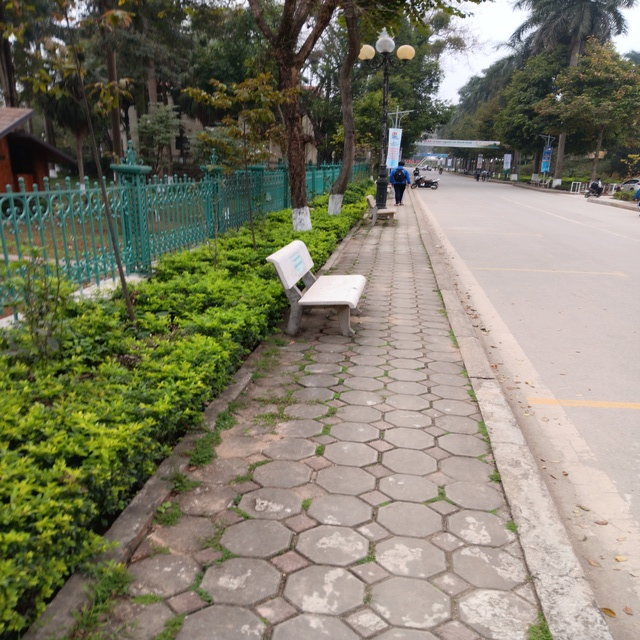gheda: (258, 235, 378, 348), (361, 188, 403, 232)
